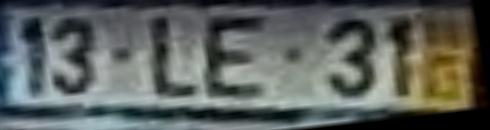1: (383, 16, 420, 103), (17, 15, 53, 102)
3: (323, 16, 385, 104), (49, 16, 104, 100)
E: (201, 14, 274, 104)
L: (147, 15, 203, 101)
